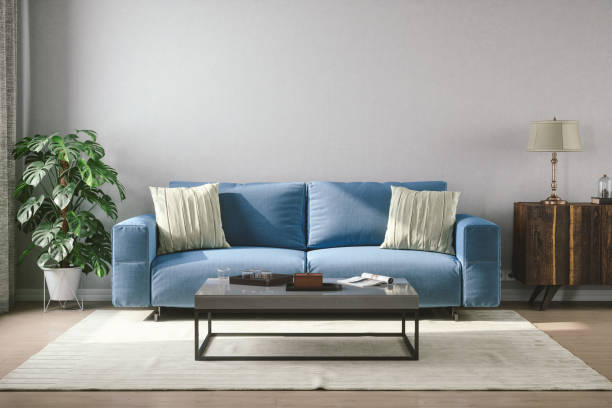large plant: (9, 126, 117, 310)
sofa: (108, 177, 506, 320)
table: (192, 274, 422, 363)
table lamp: (524, 118, 585, 204)
